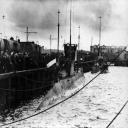submarine: (35, 45, 86, 114)
